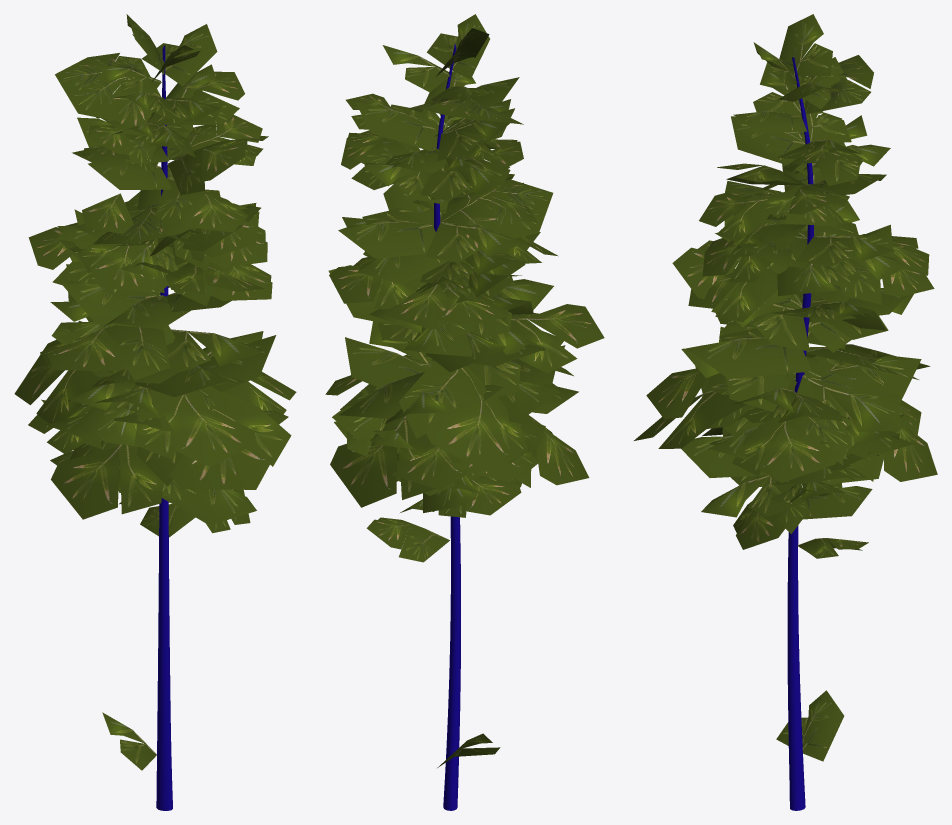
The model's file is Bamboo_A.fbx.
3 renders of one model, left to right at view 1: azimuth 30°, elevation 25°; view 2: azimuth 150°, elevation 25°; view 3: azimuth 270°, elevation 25°, orthographic. The views are drawn at different scales.
Parts seen in each view (by area): view 1: Geometry_Bamboo_A_LOD00; view 2: Geometry_Bamboo_A_LOD00; view 3: Geometry_Bamboo_A_LOD00.
Part boxes in pixels (x1,y1,x2,y2): Geometry_Bamboo_A_LOD00: (14, 14, 296, 810); Geometry_Bamboo_A_LOD00: (325, 14, 604, 810); Geometry_Bamboo_A_LOD00: (634, 14, 937, 810).
Size of what is drawn, in the model's own units: 170 by 506 by 179.
